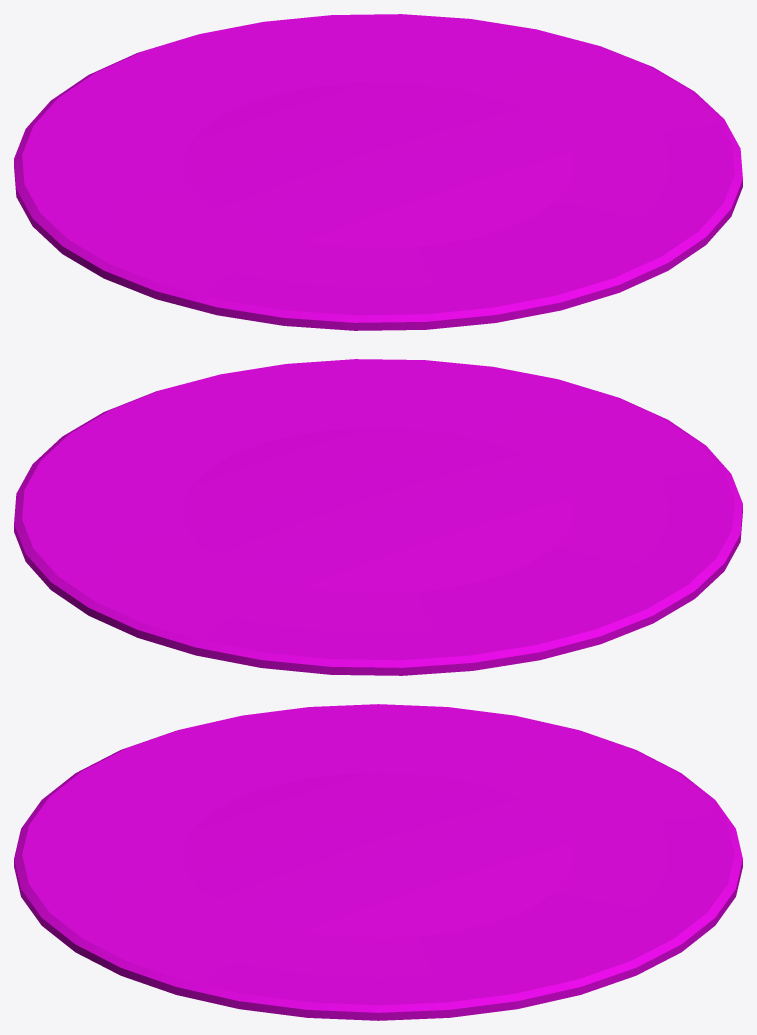
The model's file is Cylinder Road Town Final.fbx.
3 views of the same model, one above another, from view 1: azimuth 30°, elevation 25°; view 2: azimuth 150°, elevation 25°; view 3: azimuth 270°, elevation 25° (orthographic).
Parts seen in each view (by area): view 1: Cylinder_Road; view 2: Cylinder_Road; view 3: Cylinder_Road.
Part boxes in pixels (x1,y1,x2,y2): Cylinder_Road: [14, 14, 742, 330]; Cylinder_Road: [14, 359, 742, 675]; Cylinder_Road: [14, 704, 742, 1020].
Size of the model in its own units: 20 by 0.4883 by 20.
